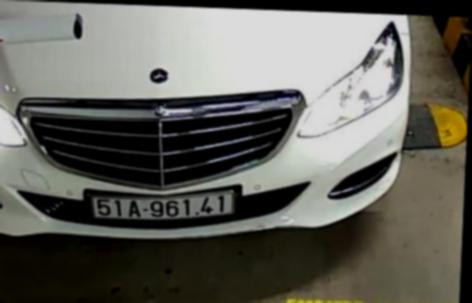License_Plate: (86, 185, 237, 227)
